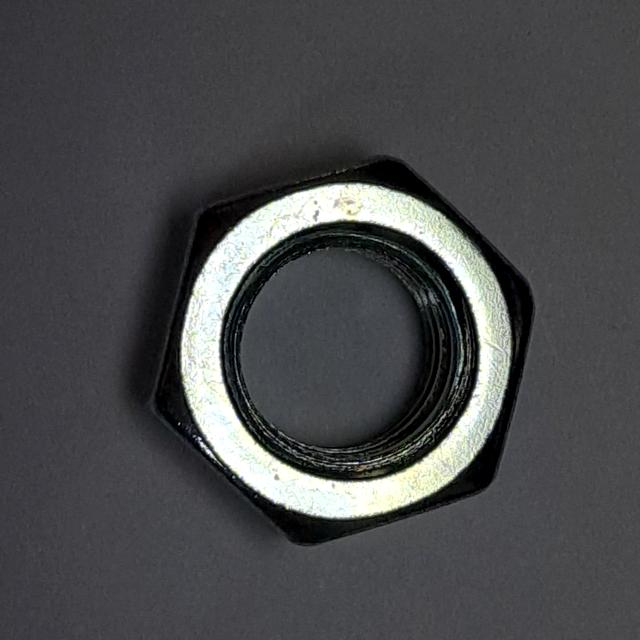Excellent: (128, 124, 559, 562)
